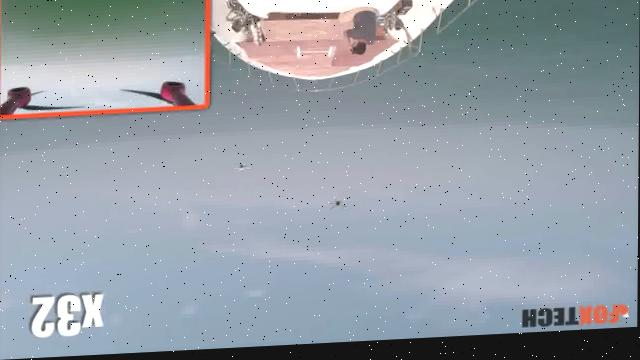drone: (311, 188, 361, 228)
